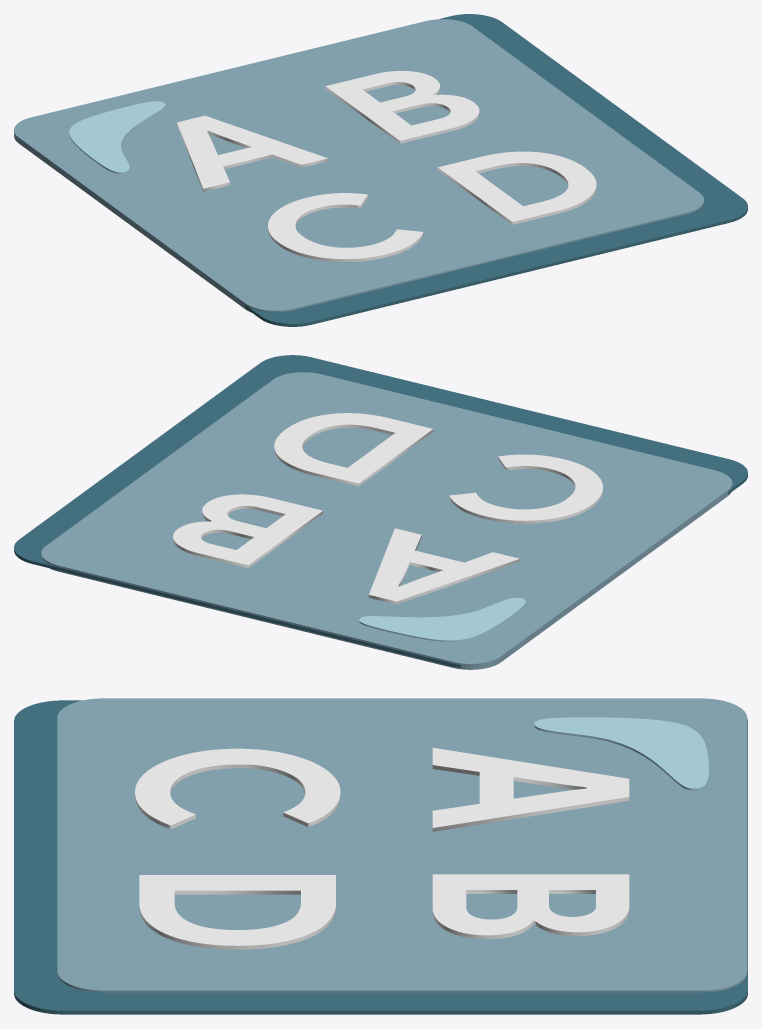
Rendered from emoji_u1f520.glb.
The picture shows the model from 3 angles, top to bottom: view 1: azimuth 30°, elevation 25°; view 2: azimuth 150°, elevation 25°; view 3: azimuth 270°, elevation 25°; orthographic projection. The views are drawn at different scales.
Parts seen in each view (by area): view 1: emoji_u1f520; view 2: emoji_u1f520; view 3: emoji_u1f520.
Boxes of the visible parts, x1=… form: emoji_u1f520: x1=14, y1=14, x2=747, y2=326; emoji_u1f520: x1=14, y1=355, x2=747, y2=669; emoji_u1f520: x1=14, y1=698, x2=747, y2=1014.
Bounding box in the file's own units: 0.0339 × 0.0008 × 0.0339.
